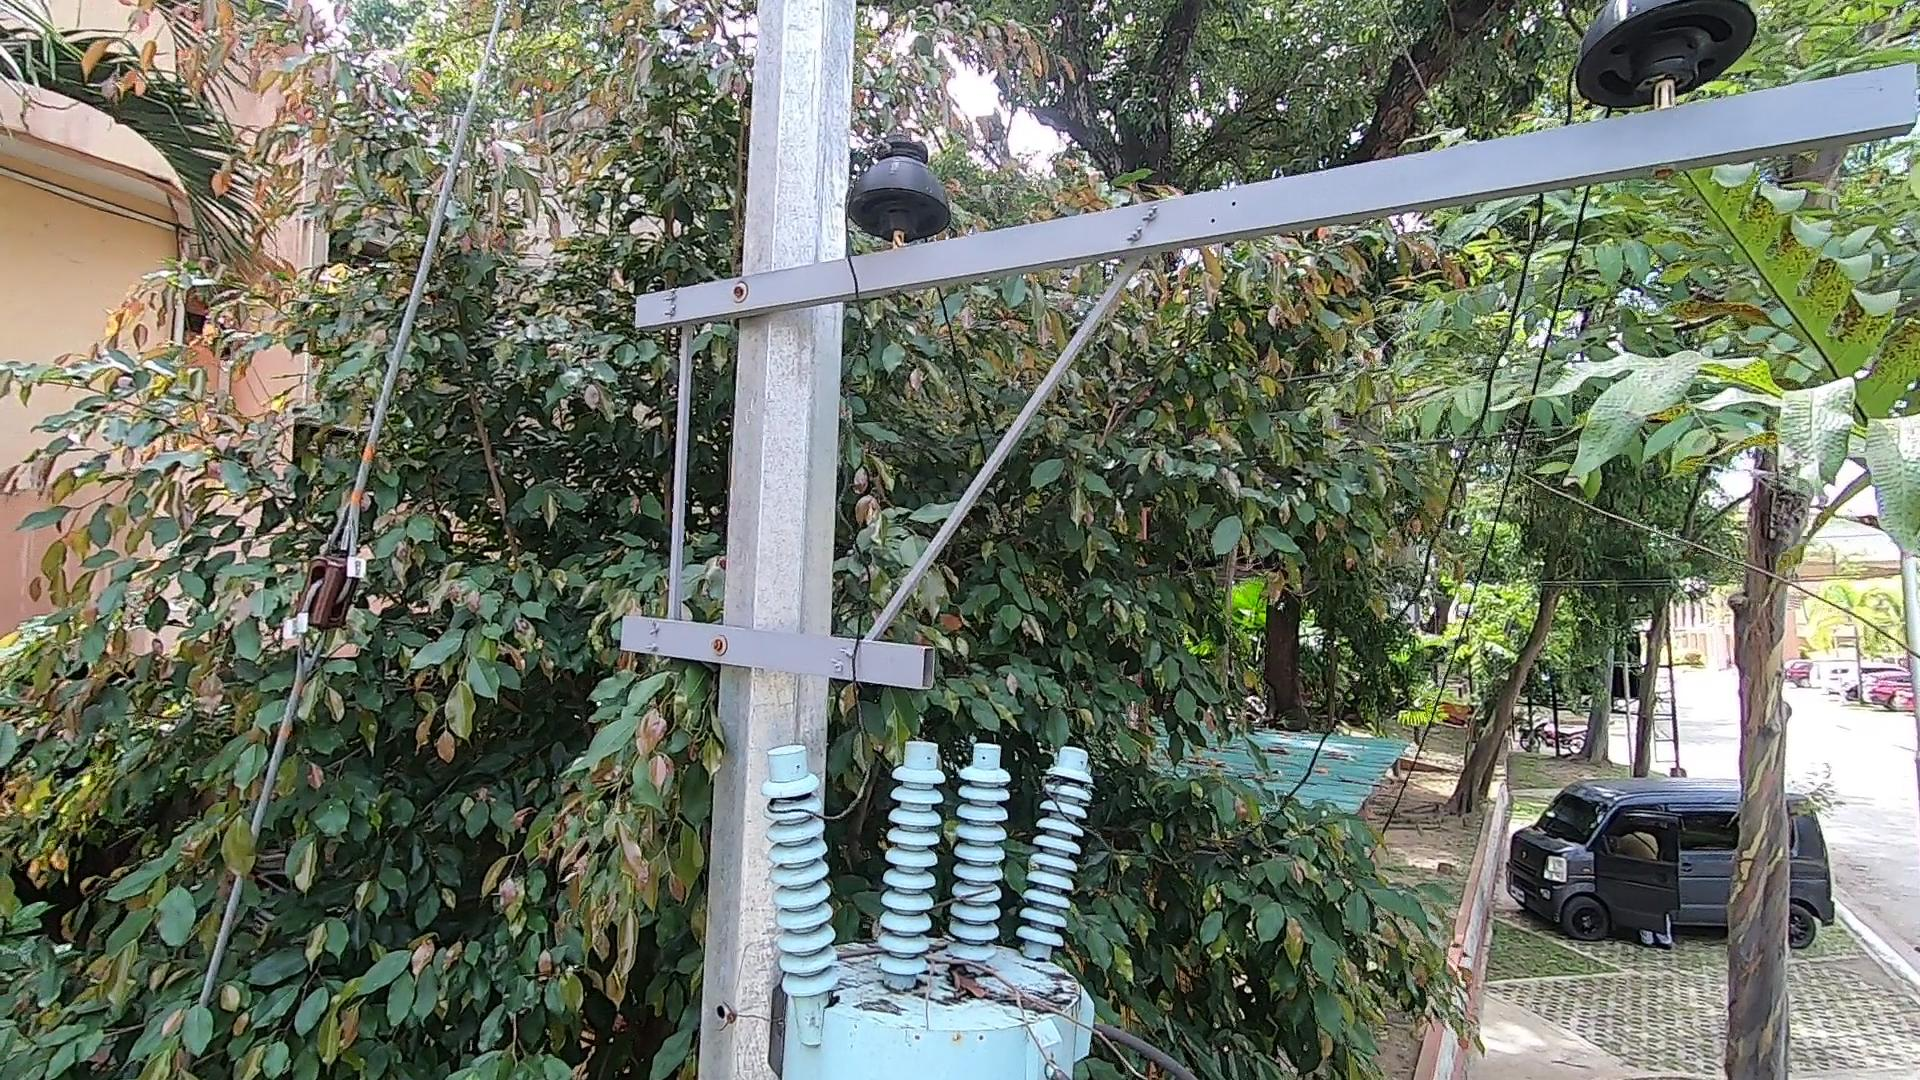leaf: (928, 953, 1004, 1011)
tree branch: (833, 927, 1156, 1080)
